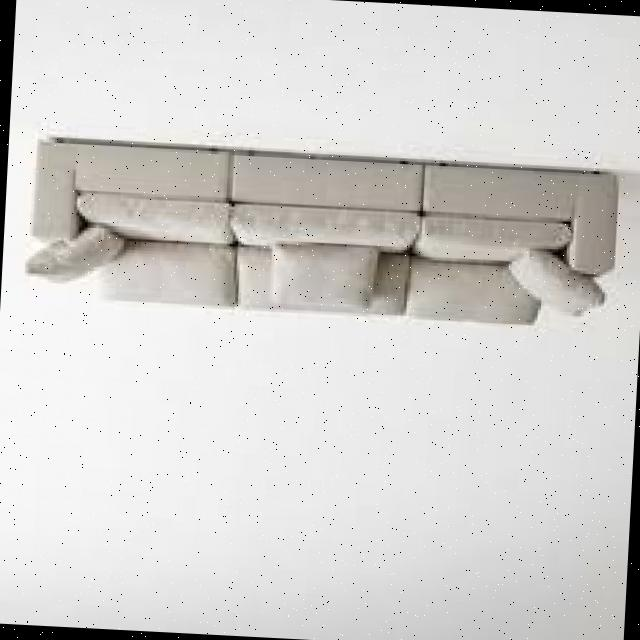Sofa: (18, 112, 640, 365)
